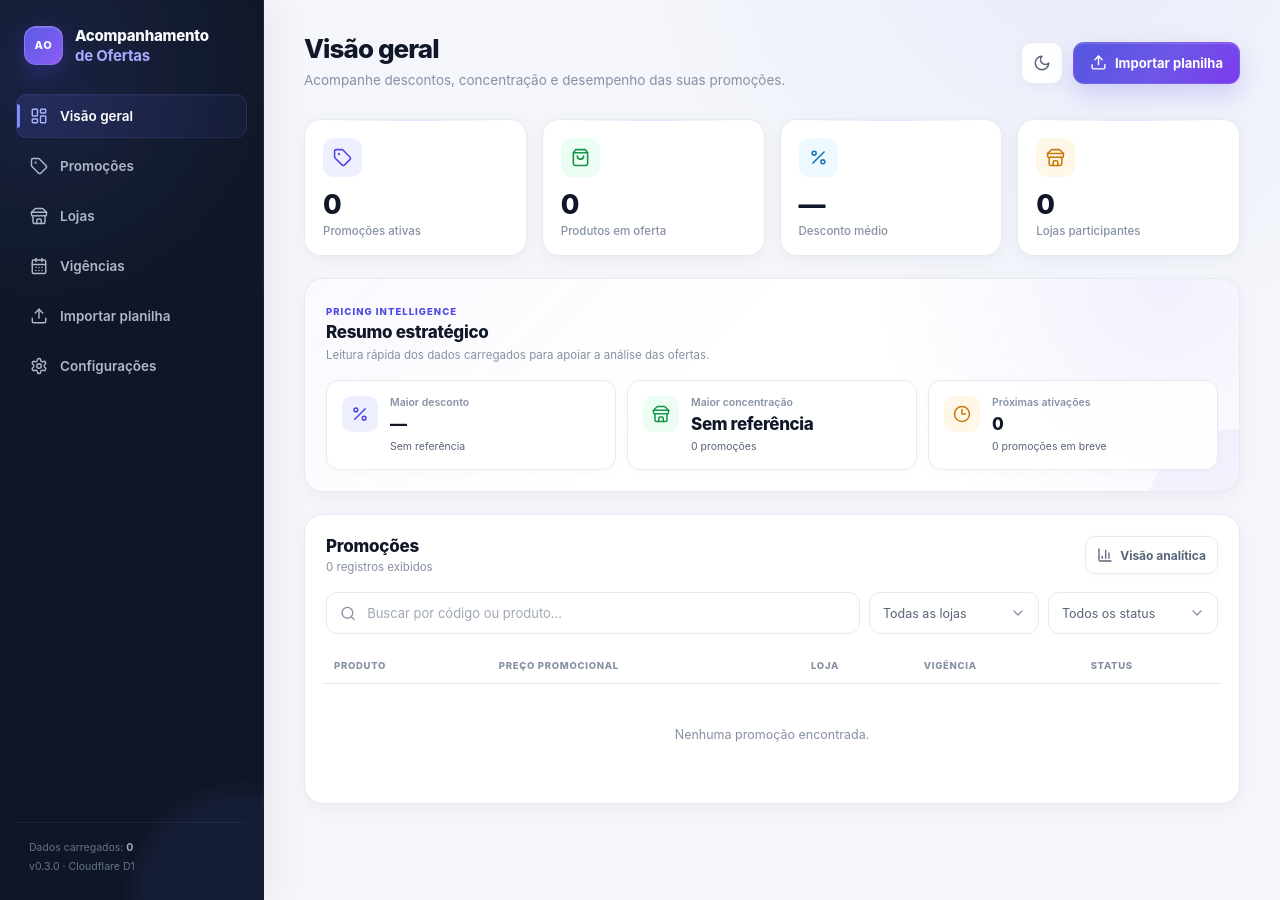
Scenario: navegação principal › expõe semanticamente a página ativa ao navegar
The width and height of the screenshot is (1280, 900).
Click the button "Promoções".
click(132, 166)  # box [16,144,247,188]
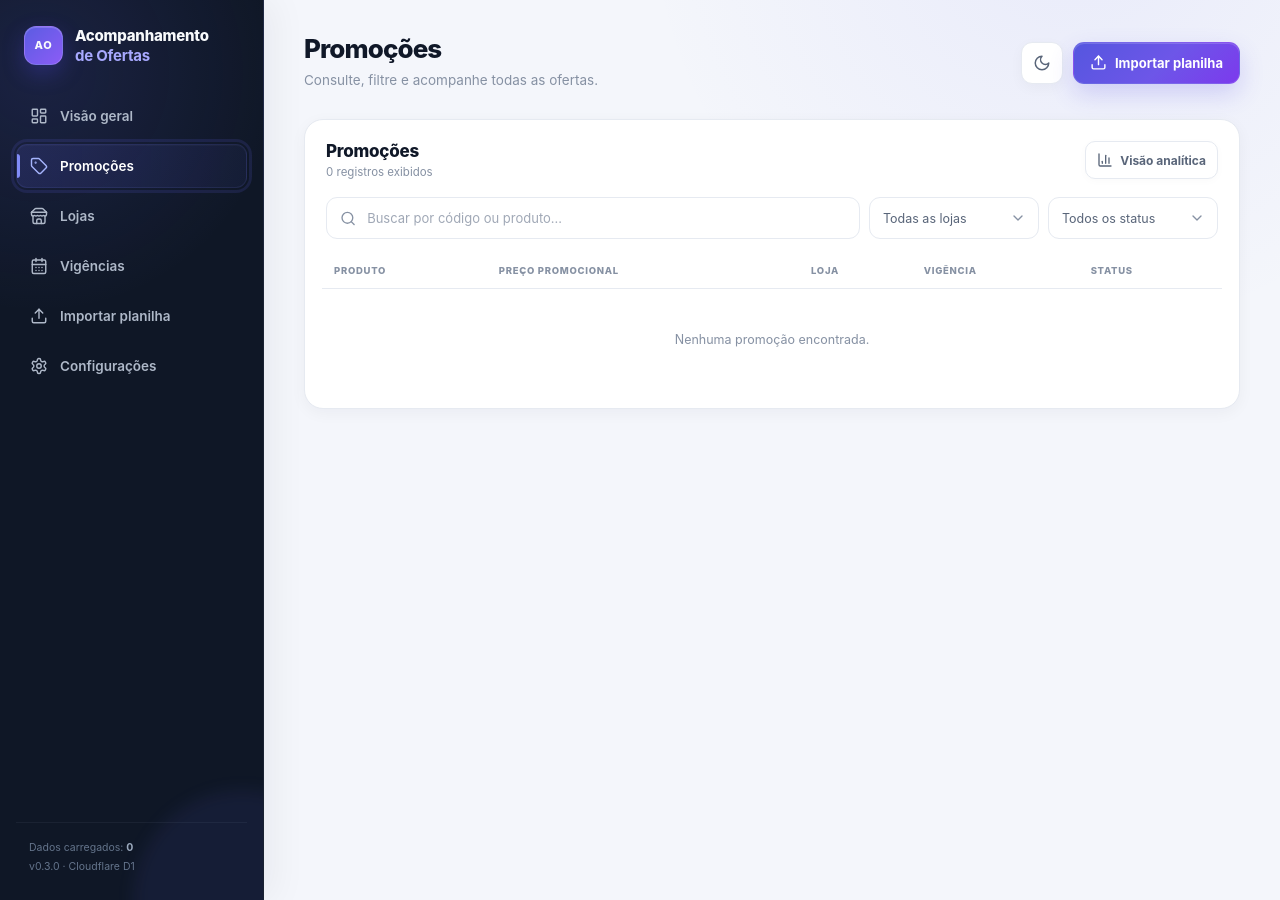
Expected: the 1st heading "Promoções" is shown, [304,33,441,64]
